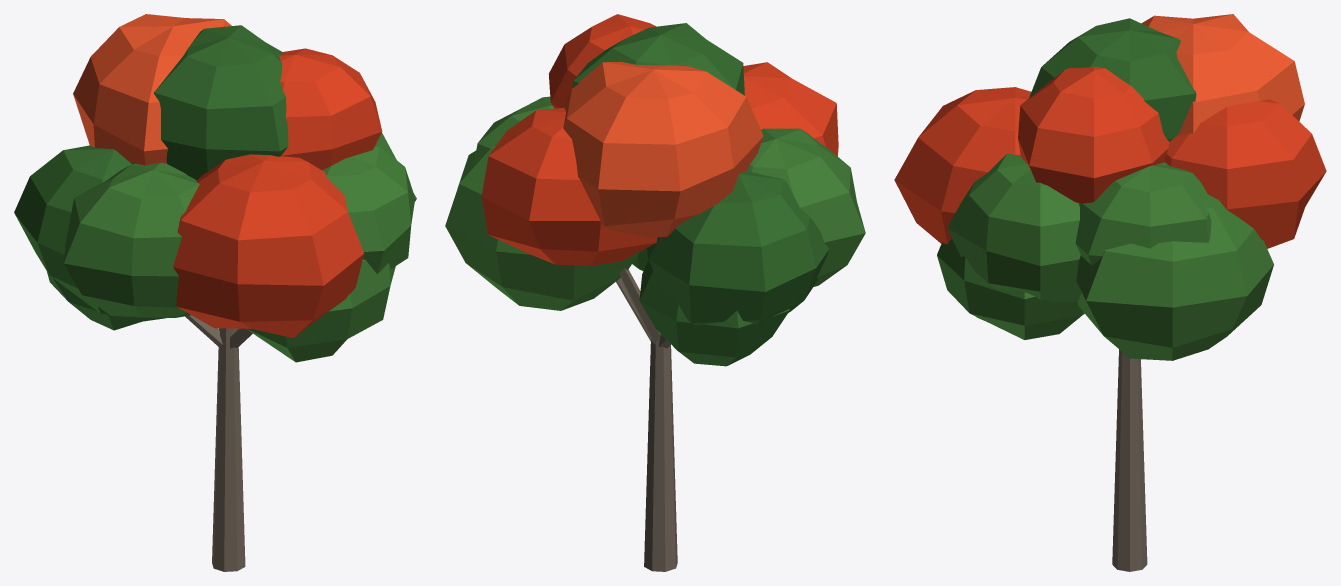
The model's file is tree_tulip_tree_medium.glb.
3 renders of one model, left to right at view 1: azimuth 30°, elevation 25°; view 2: azimuth 150°, elevation 25°; view 3: azimuth 270°, elevation 25°, orthographic.
Parts seen in each view (by area): view 1: tree_tulip_tree_medium; view 2: tree_tulip_tree_medium; view 3: tree_tulip_tree_medium.
Boxes of the visible parts, box(x1,y1,x2,y2) form: tree_tulip_tree_medium: box(14, 14, 416, 571); tree_tulip_tree_medium: box(445, 14, 865, 571); tree_tulip_tree_medium: box(894, 14, 1326, 571).
Bounding box in the file's own units: 6.85 × 9.48 × 6.95.
